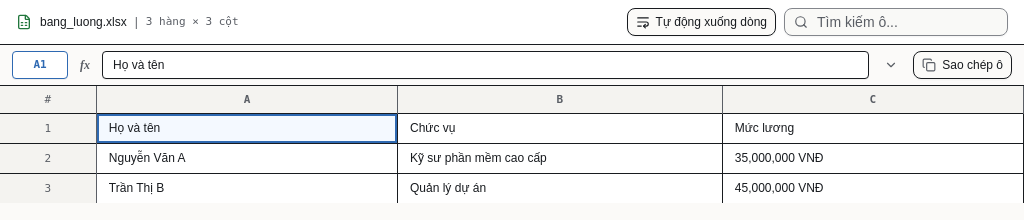
Scenario: SpreadsheetViewer › updates inspector bar when a cell is clicked
Expected: the text "Nguyễn Văn A" is shown, [96,144,398,174]
Expected: the text box named "Nội dung ô" holds "Họ và tên", [102,51,869,79]
Click on "Kỹ sư phần mềm cao cấp" (Cell B2)
Step 1. Click the text "Kỹ sư phần mềm cao cấp" → (560, 159), box [398,144,722,174]
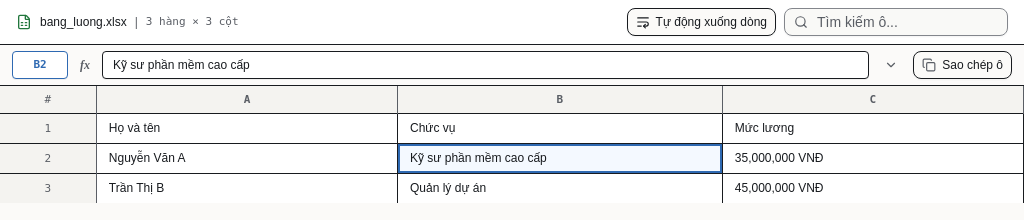
Expected: the text titled "Ô B2" is shown, [12,51,68,79]
Expected: the text box named "Nội dung ô" holds "Kỹ sư phần mềm cao cấp", [102,51,869,79]
